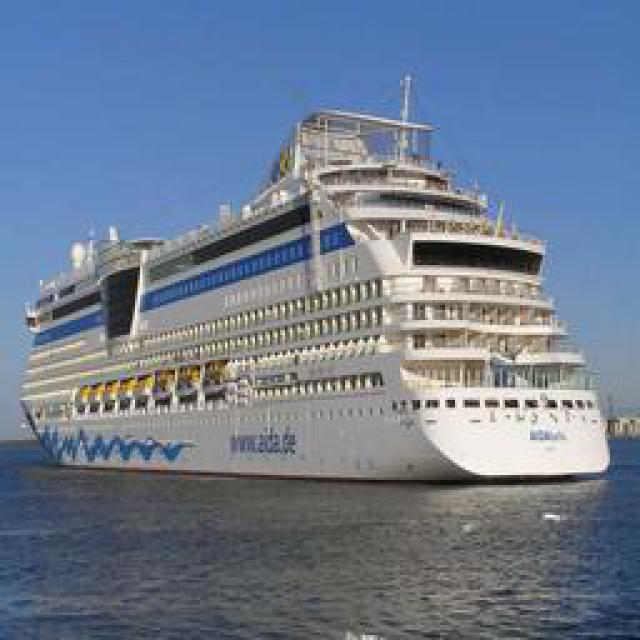Ship: (21, 74, 601, 497)
